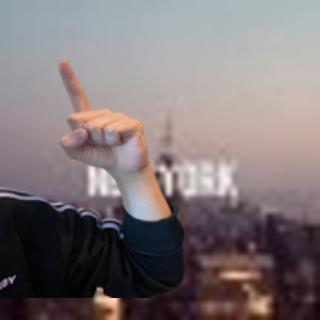IRRITATED: (50, 56, 157, 179)
